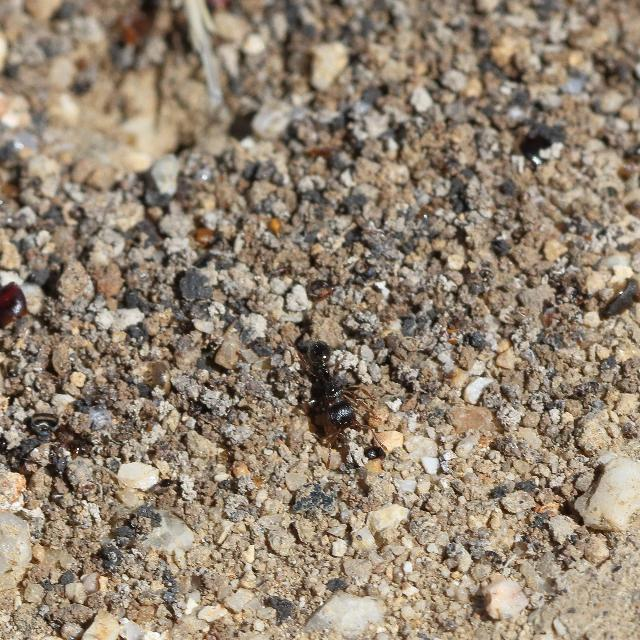Tetramorium: (298, 335, 366, 437)
